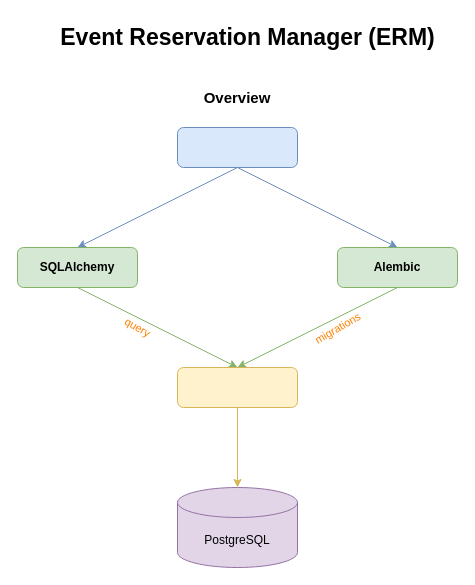
The diagram is 475 pixels wide and 585 high, and some of its shapes have lost their labels. The shapes that lost their labels are listed below. From the top down, each one's centre as x and y in pixels, then its label:
(237,147): FastAPI
(237,387): asyncpg
